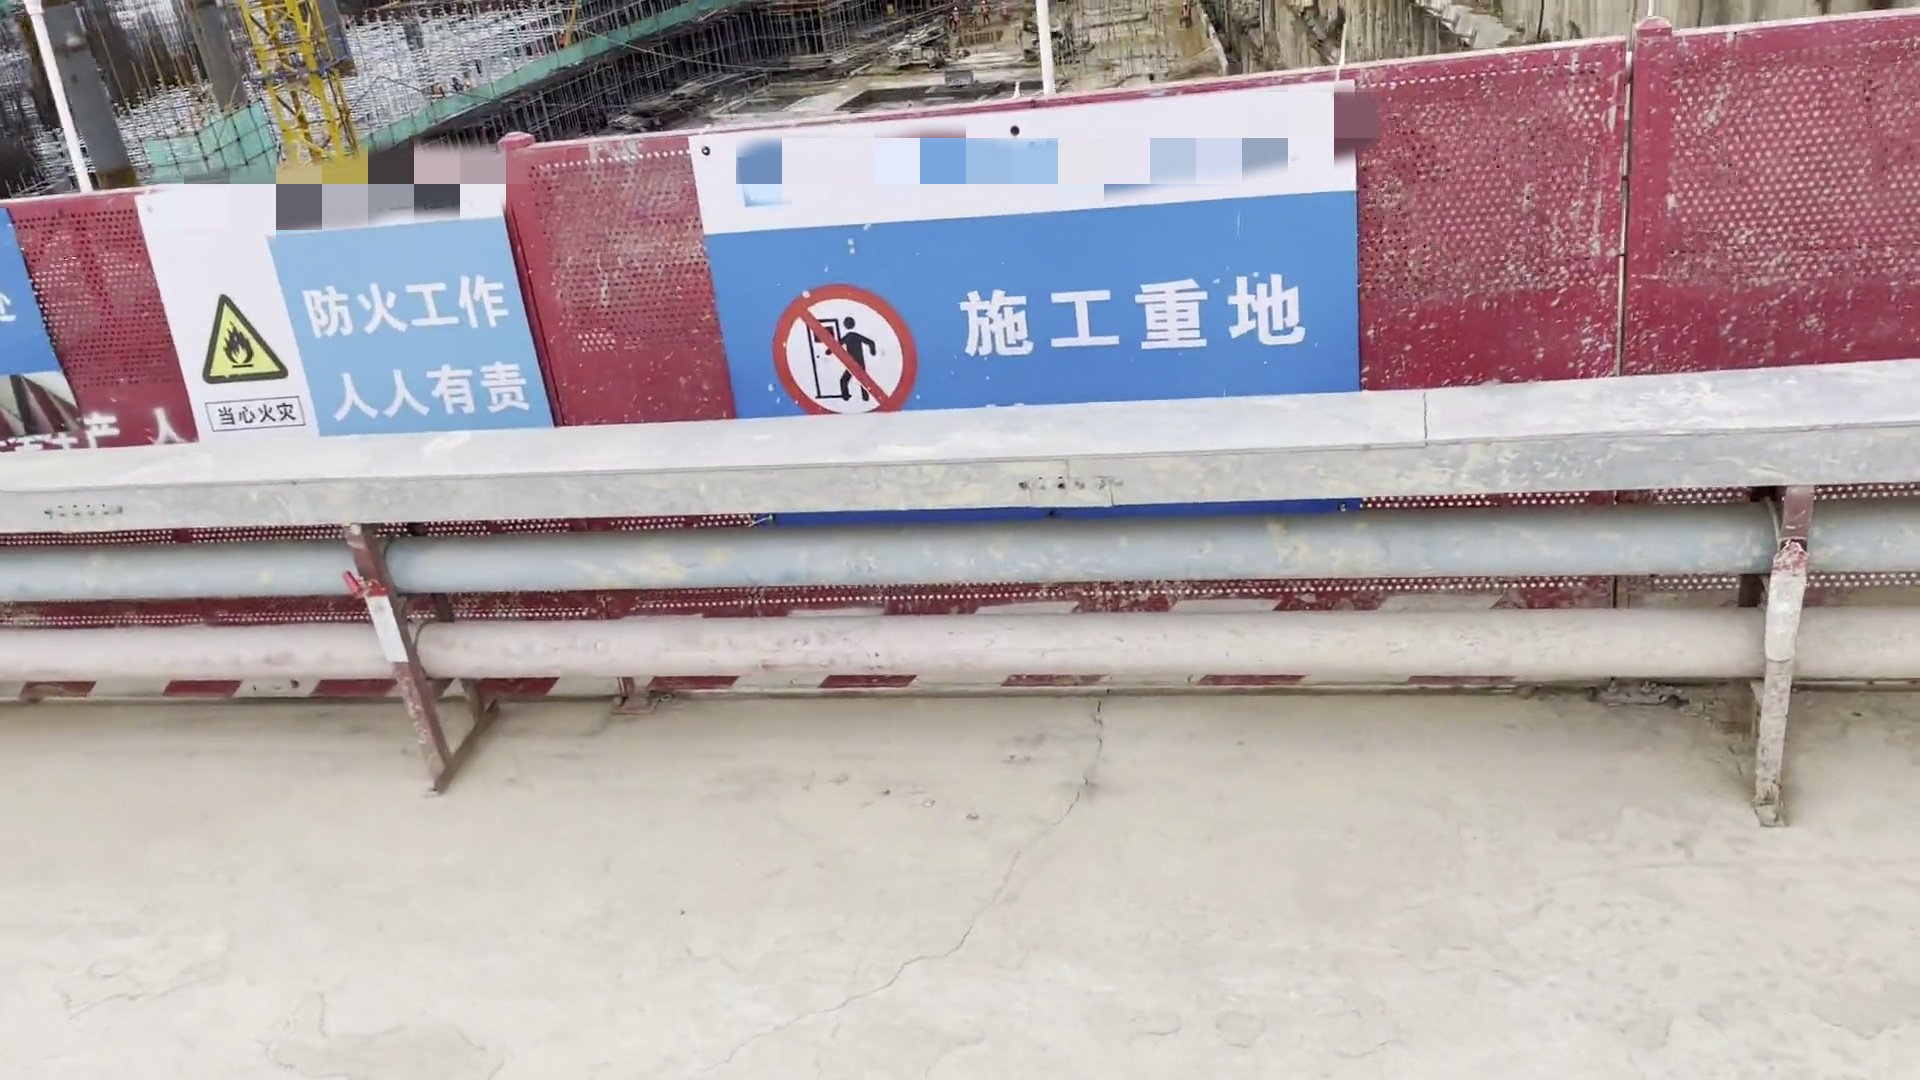fence: (684, 7, 1920, 462), (2, 137, 856, 474)
helmet: (1181, 1, 1189, 8), (951, 5, 958, 11), (980, 1, 987, 5)
person: (1179, 1, 1198, 34), (977, 1, 993, 34), (947, 5, 964, 35)
slogan: (641, 77, 1419, 585), (121, 161, 568, 461), (1, 191, 119, 520)
vest: (979, 5, 990, 18), (951, 13, 960, 25), (1182, 7, 1189, 19)
